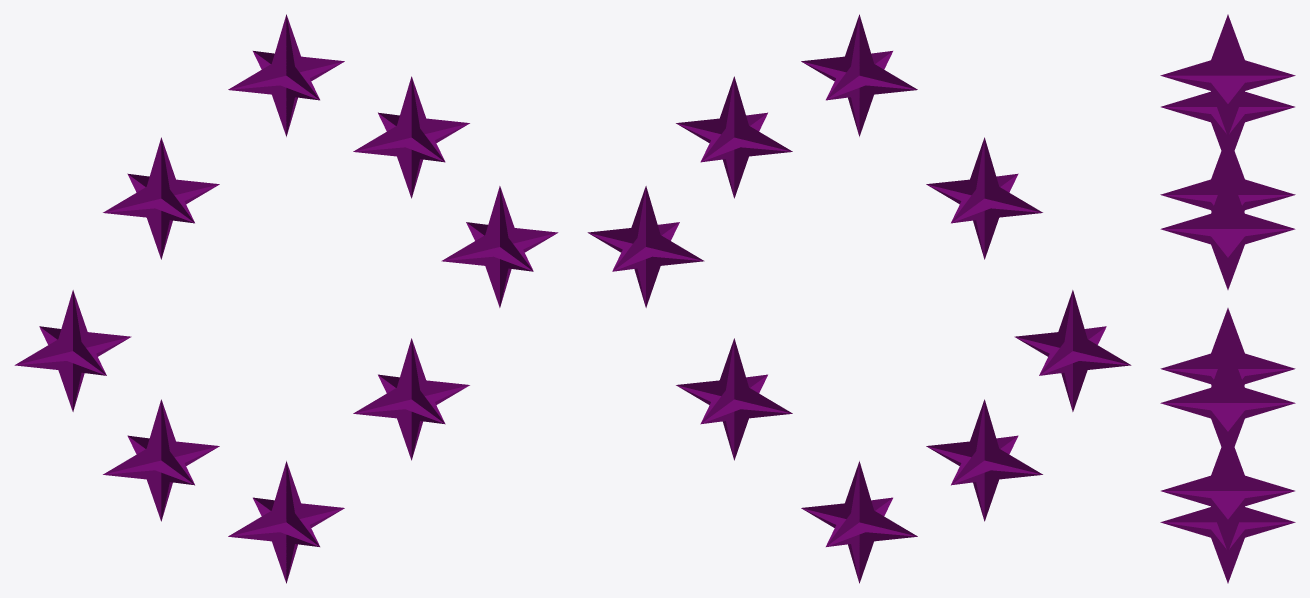
The model's file is model_3092_spotanim.obj.
3 renders of one model, left to right at view 1: azimuth 30°, elevation 25°; view 2: azimuth 150°, elevation 25°; view 3: azimuth 270°, elevation 25°, orthographic.
Parts seen in each view (by area): view 1: 3092; view 2: 3092; view 3: 3092.
Boxes of the visible parts, x1,y1,x2,y2 form: 3092: (14, 14, 558, 583); 3092: (587, 14, 1131, 583); 3092: (1160, 14, 1295, 583).
Bounding box in the file's own units: 148 × 148 × 32.
